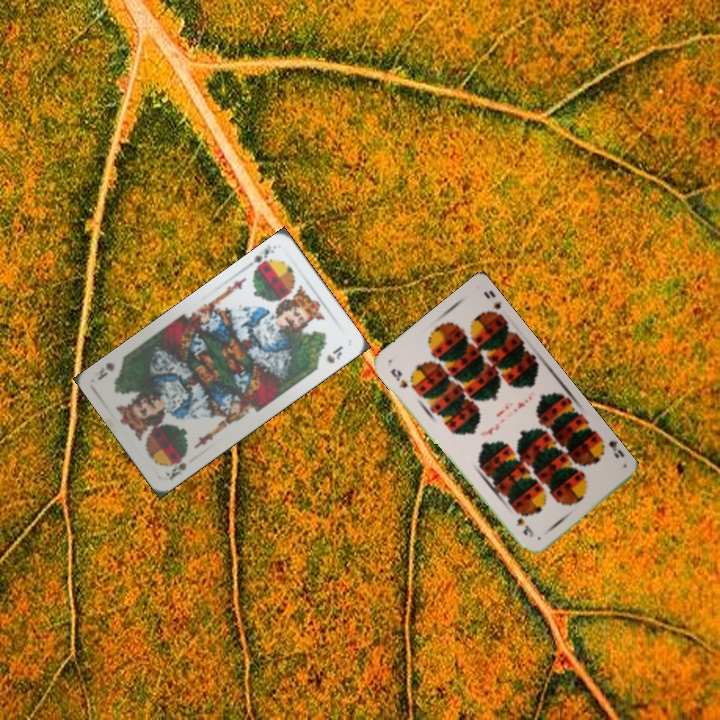S9: (597, 434, 622, 461), (386, 364, 410, 391)
SK: (243, 241, 279, 277), (161, 450, 189, 483)
